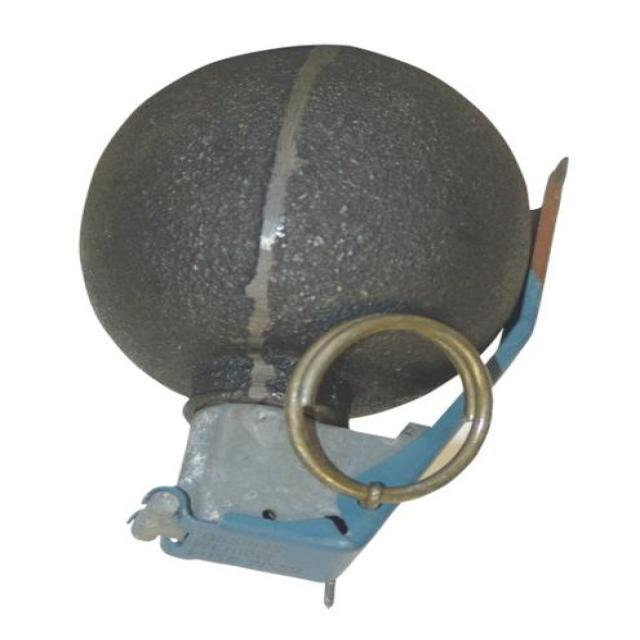grenade: (77, 45, 571, 607)
